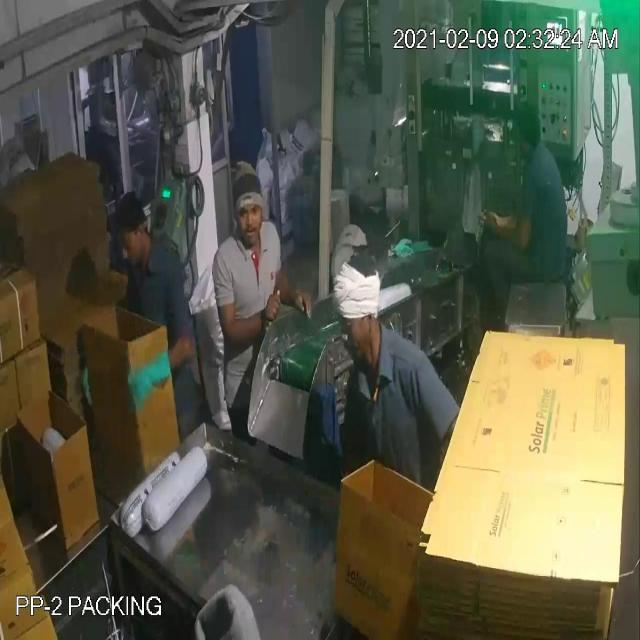gloves: (126, 351, 176, 429)
no-gloves: (472, 176, 534, 266), (214, 284, 284, 354), (266, 259, 316, 320)
